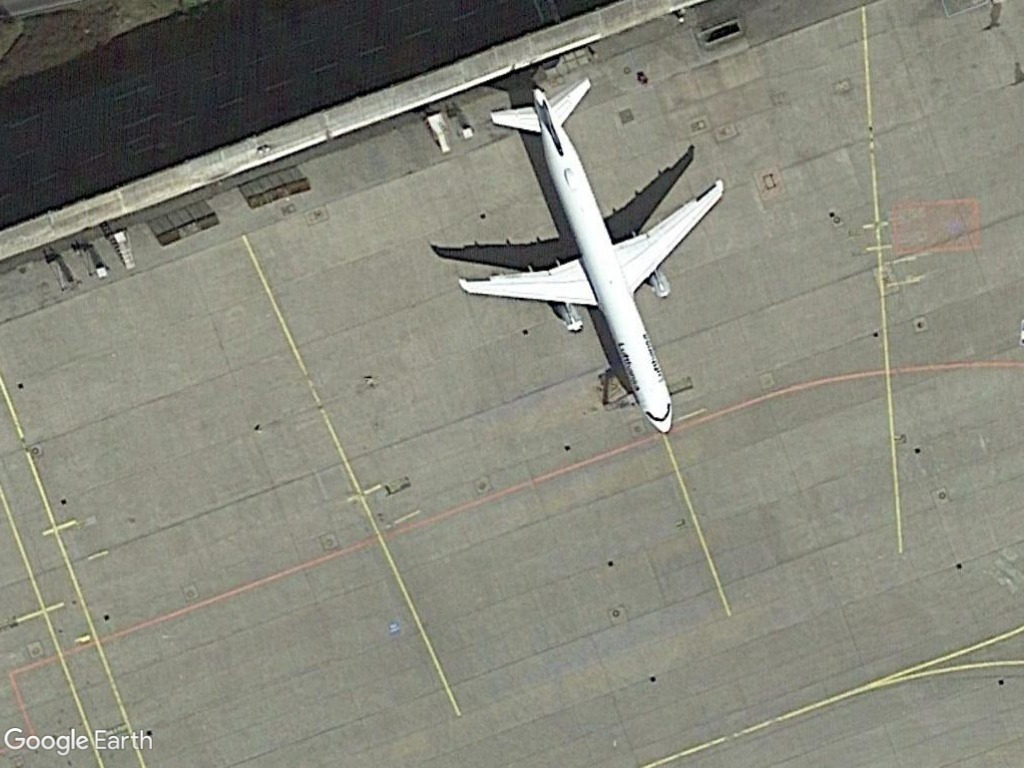airliner: (451, 70, 731, 442)
